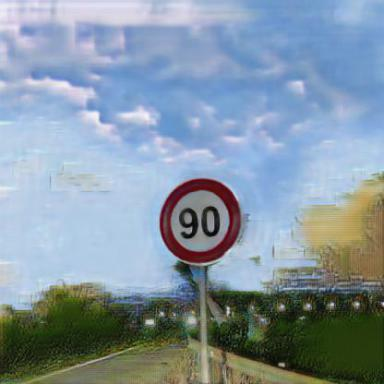Speed_limit_90: (160, 178, 242, 264)
